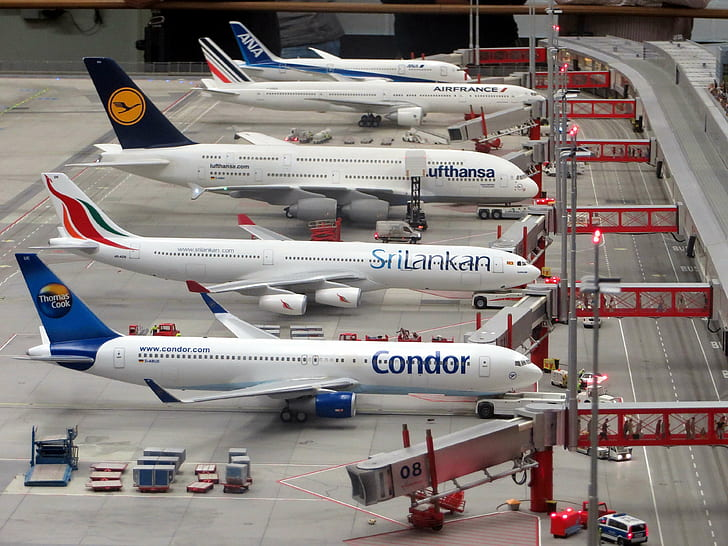aeroplane: (8, 248, 547, 428), (27, 171, 544, 311), (77, 57, 540, 203), (188, 37, 545, 120), (228, 20, 470, 79)
